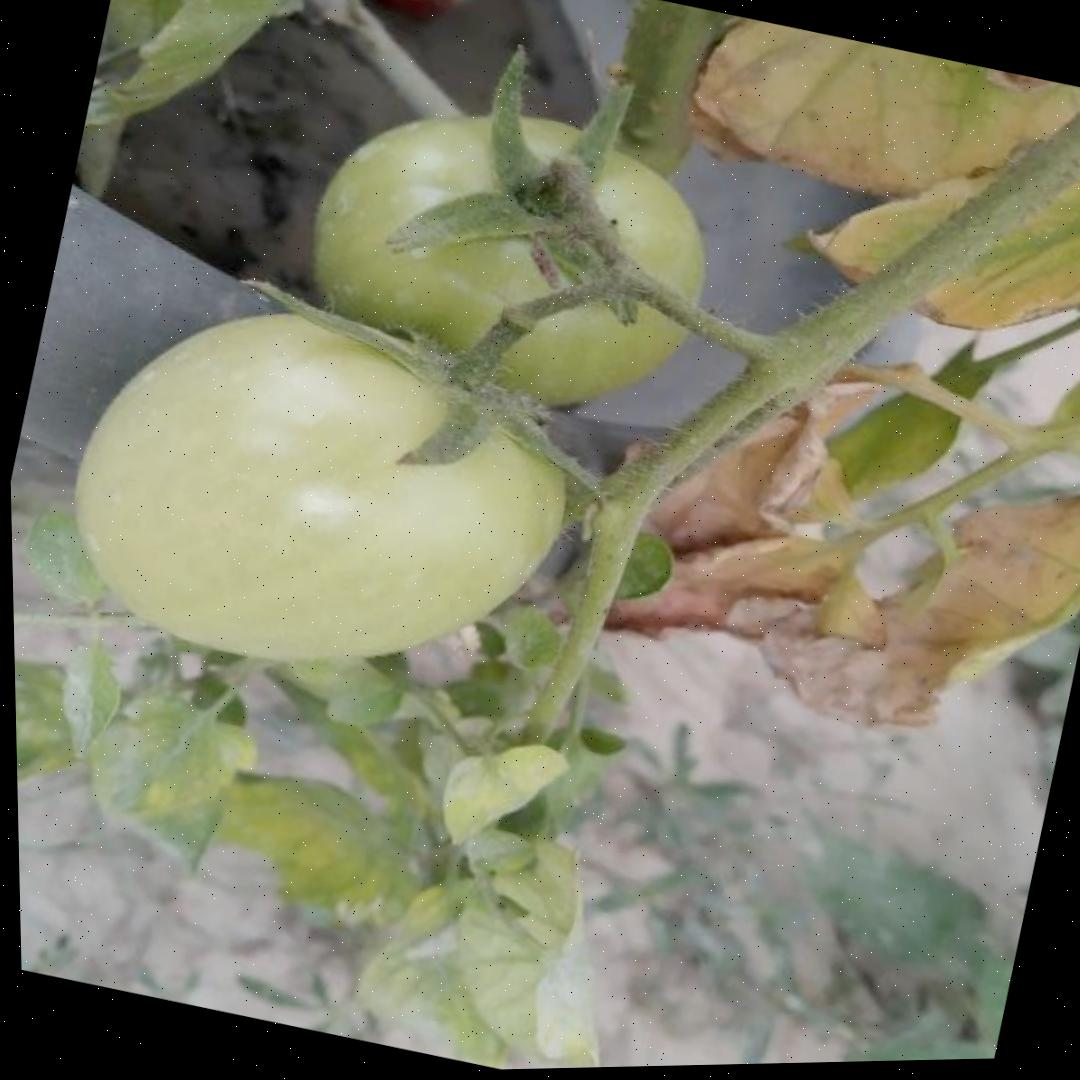mentah: (40, 261, 599, 724), (278, 67, 741, 453)
